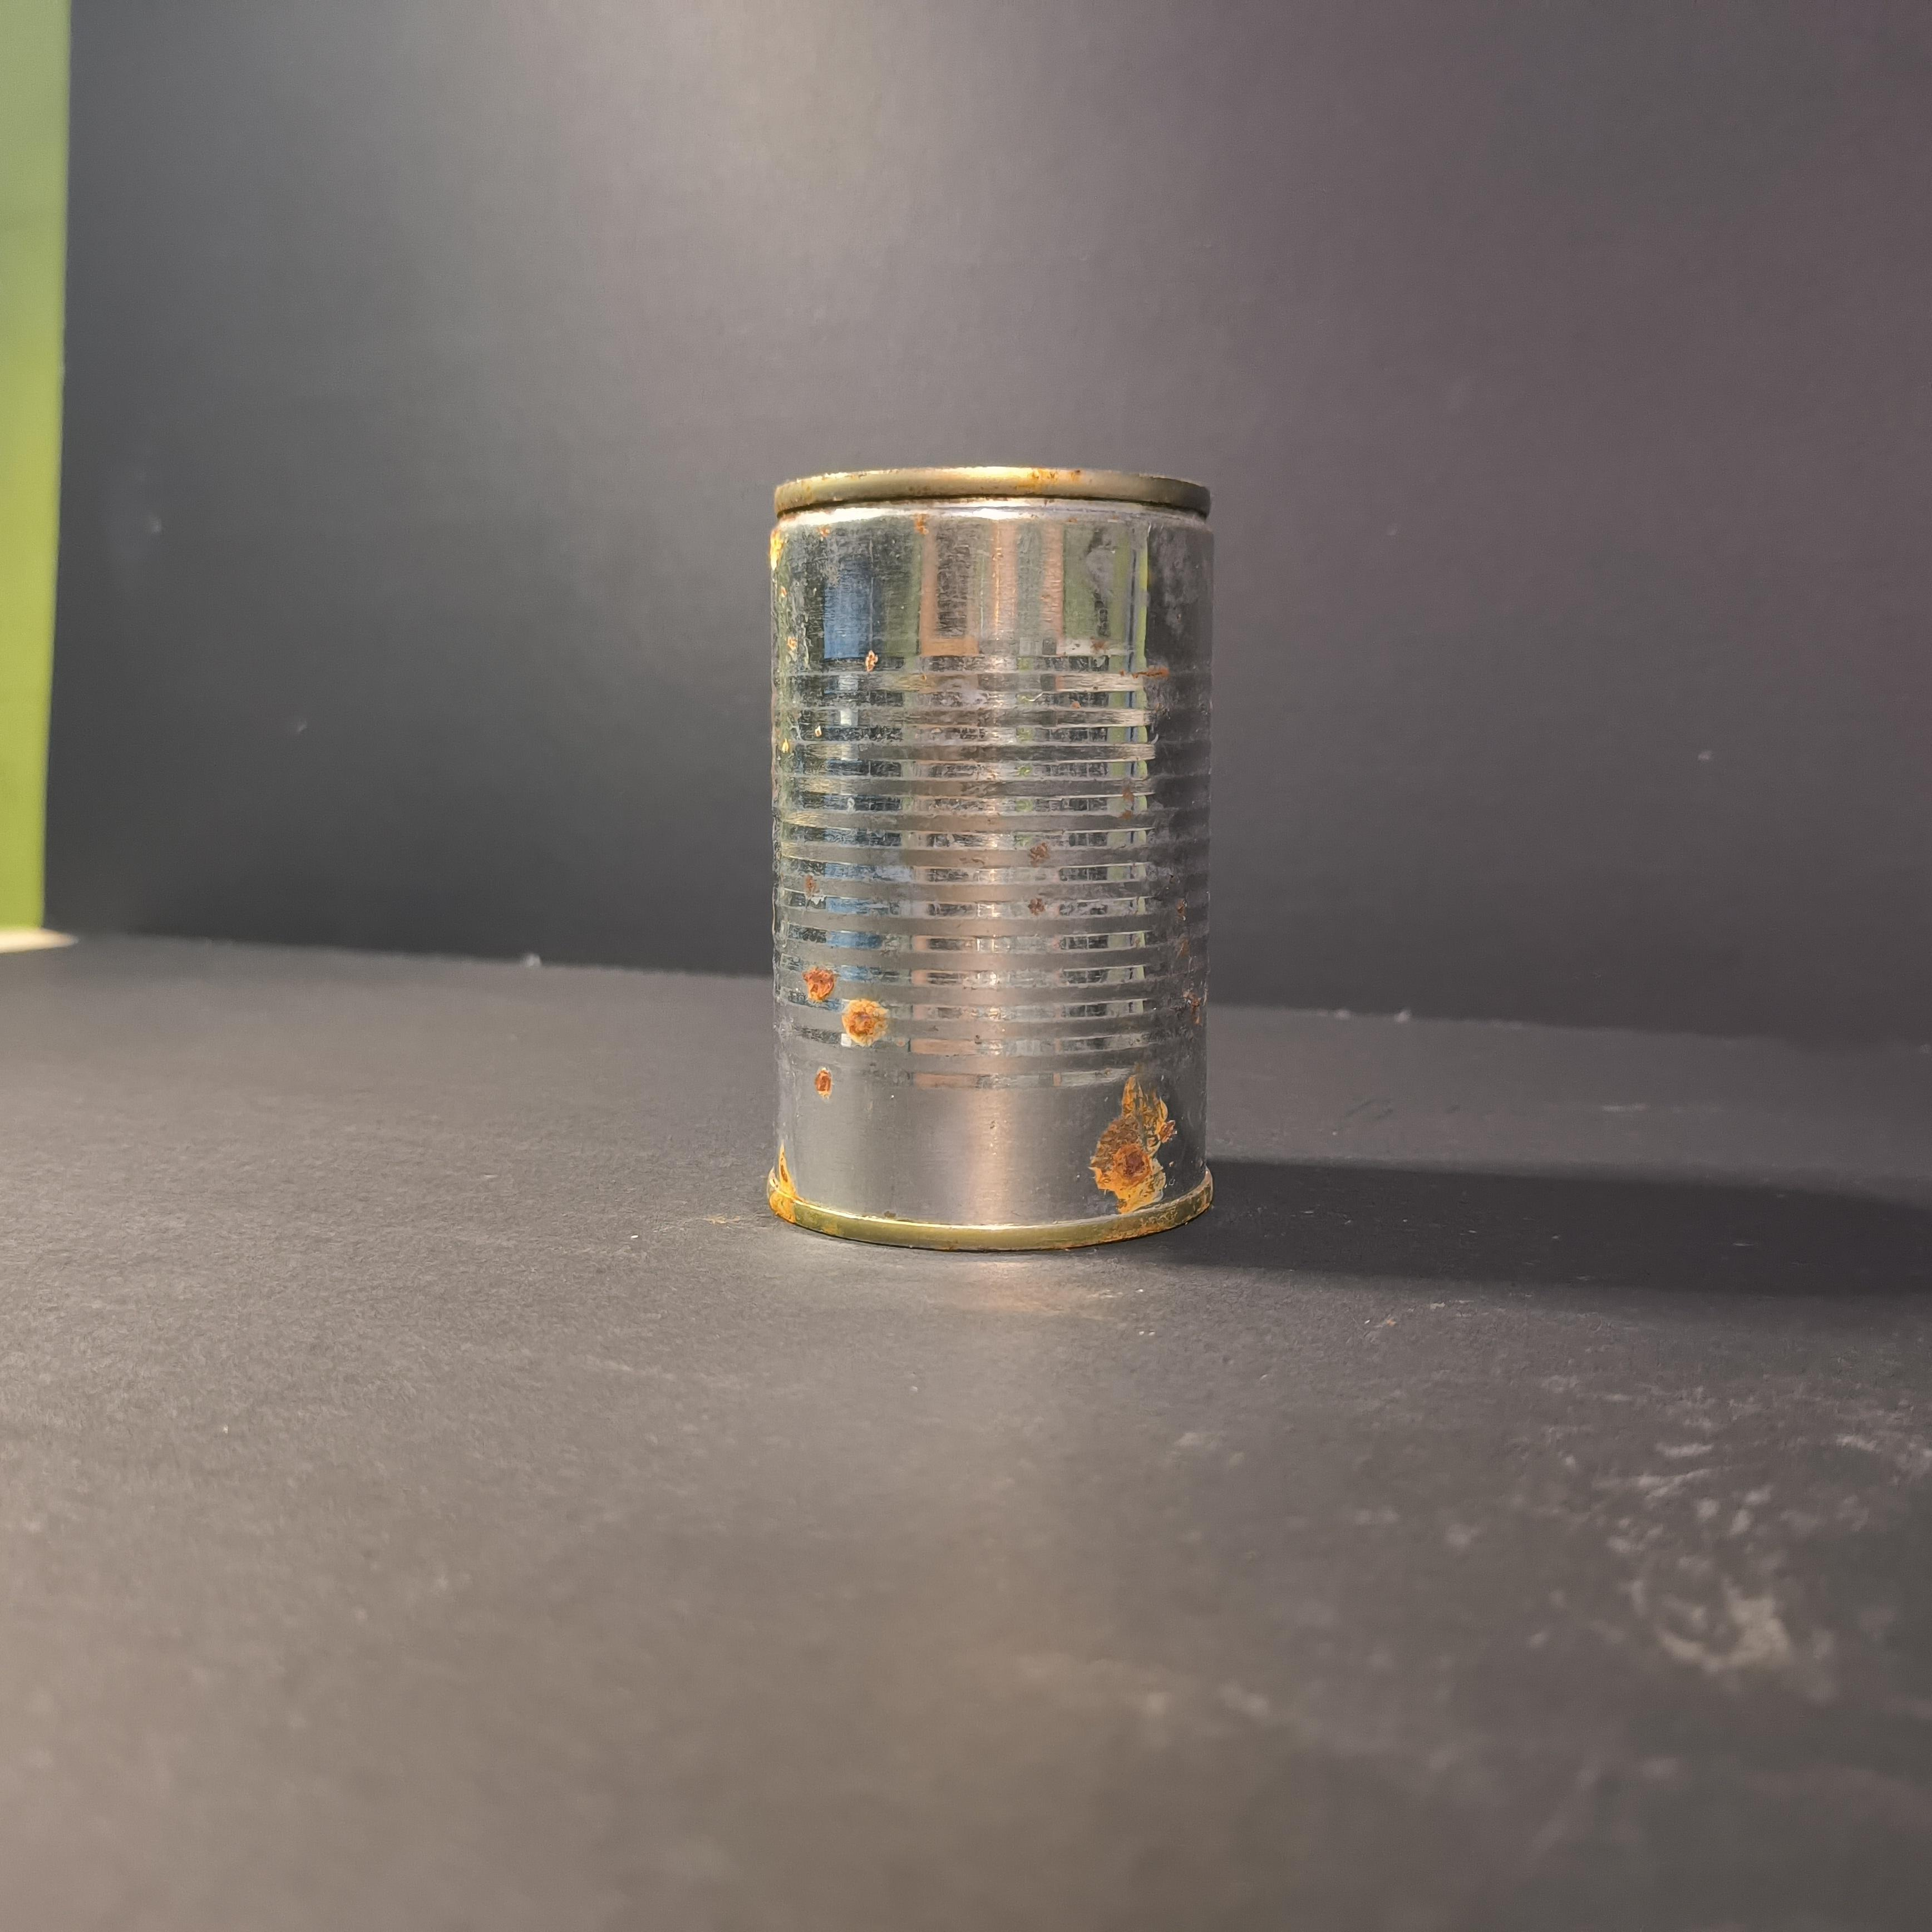Rusted: (720, 439, 1240, 1260)
